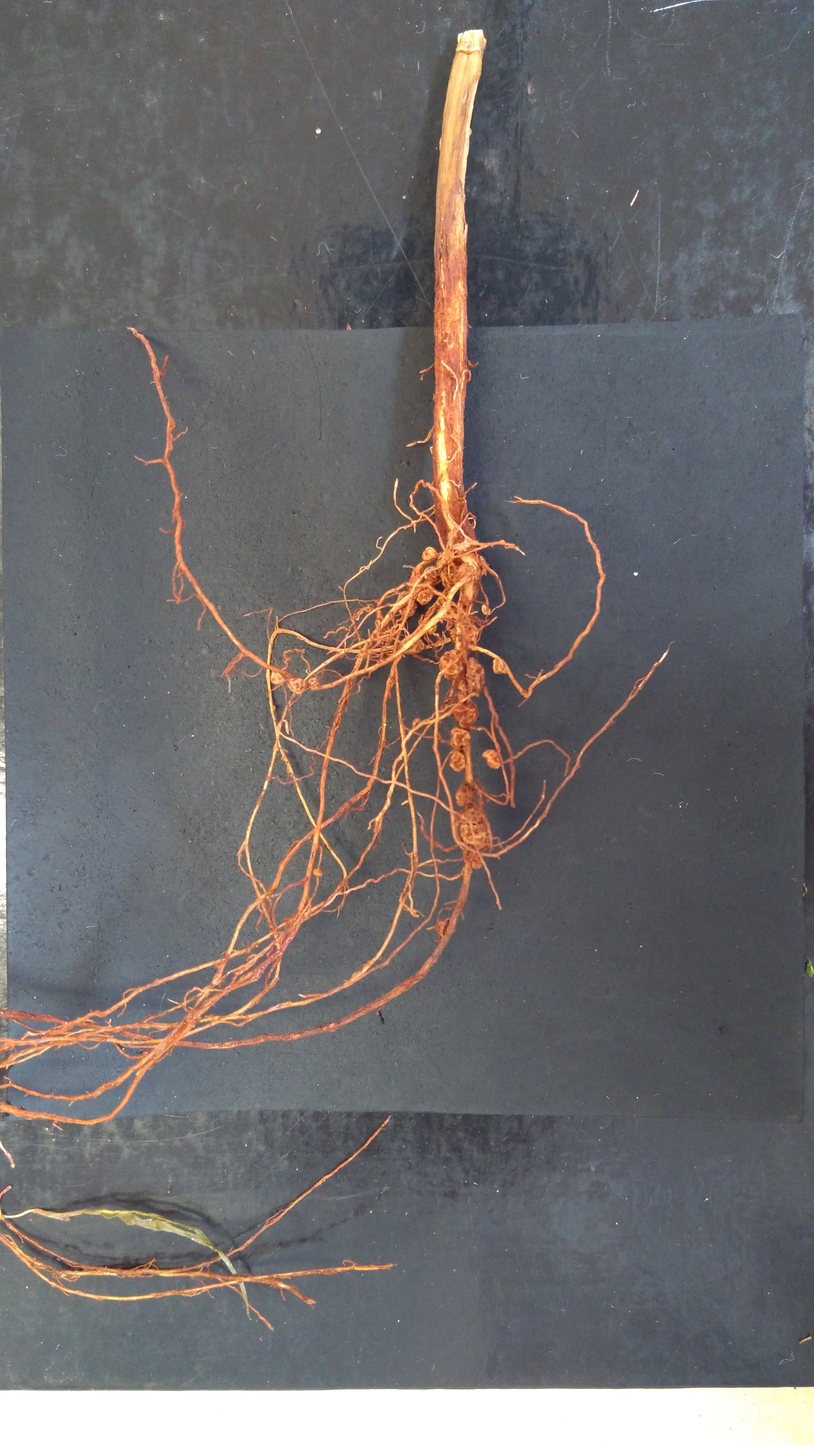nodule: (457, 807, 488, 848), (450, 619, 480, 648), (465, 656, 486, 697), (438, 648, 464, 676), (453, 699, 478, 725), (398, 633, 425, 655), (453, 781, 474, 807), (396, 590, 416, 616), (462, 846, 484, 869), (449, 726, 471, 748), (436, 916, 457, 938), (481, 747, 501, 770), (286, 677, 308, 695), (416, 587, 435, 607), (449, 750, 466, 772), (419, 545, 439, 561), (492, 658, 508, 676), (439, 567, 451, 588), (422, 565, 438, 579), (270, 671, 286, 685), (480, 602, 491, 618), (307, 677, 320, 690), (426, 621, 437, 635), (312, 868, 324, 877)
